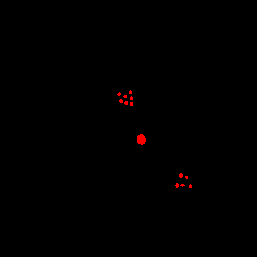Target: (137, 134, 146, 145), (179, 173, 183, 178), (175, 183, 179, 188), (117, 92, 121, 96), (119, 99, 123, 103), (124, 101, 128, 105), (180, 184, 185, 187), (129, 90, 132, 94), (123, 95, 127, 98), (130, 96, 133, 100), (130, 102, 133, 106), (189, 184, 192, 188), (185, 176, 188, 179)
